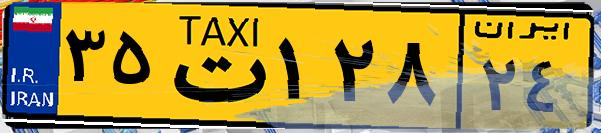1: (270, 28, 330, 110)
2: (330, 28, 385, 110), (475, 38, 525, 113)
3: (57, 26, 110, 100)
4: (525, 38, 570, 115)
5: (110, 28, 158, 98)
8: (385, 28, 445, 110)
ت: (158, 12, 270, 120)
